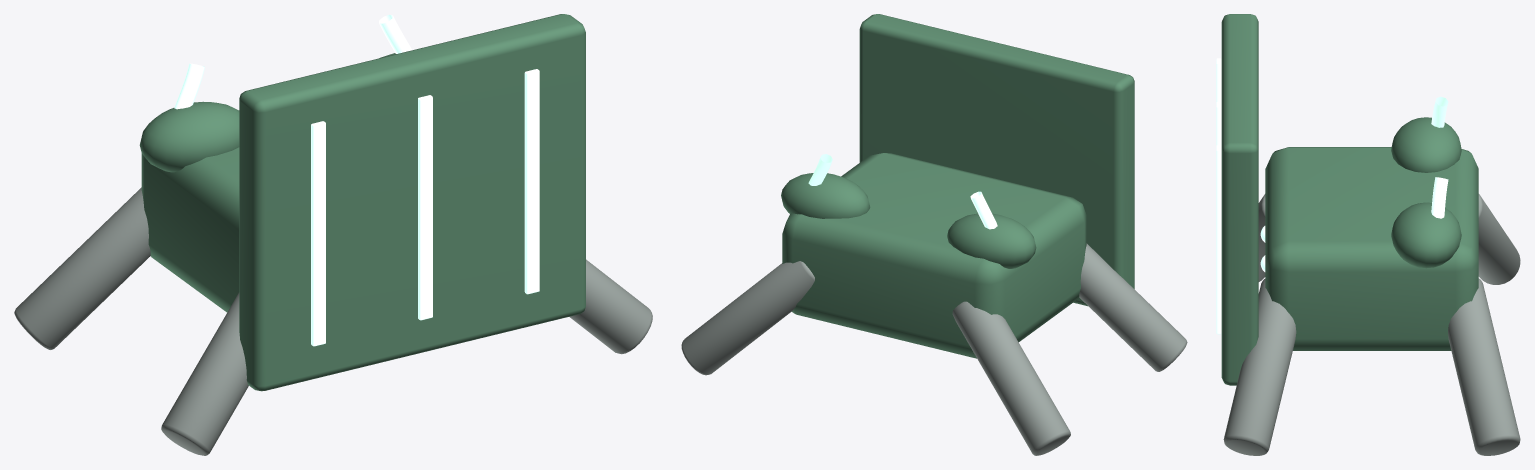
The model's file is card_p0_tank.glb.
3 renders of one model, left to right at view 1: azimuth 30°, elevation 25°; view 2: azimuth 150°, elevation 25°; view 3: azimuth 270°, elevation 25°, orthographic. The views are drawn at different scales.
Parts seen in each view (by area): view 1: card_p0_tank; view 2: card_p0_tank; view 3: card_p0_tank.
Boxes of the visible parts, x1,y1,x2,y2 form: card_p0_tank: (14, 14, 652, 455); card_p0_tank: (681, 14, 1187, 455); card_p0_tank: (1216, 14, 1520, 455).
Size of the model in its own units: 2.4 by 1.66 by 1.57.
